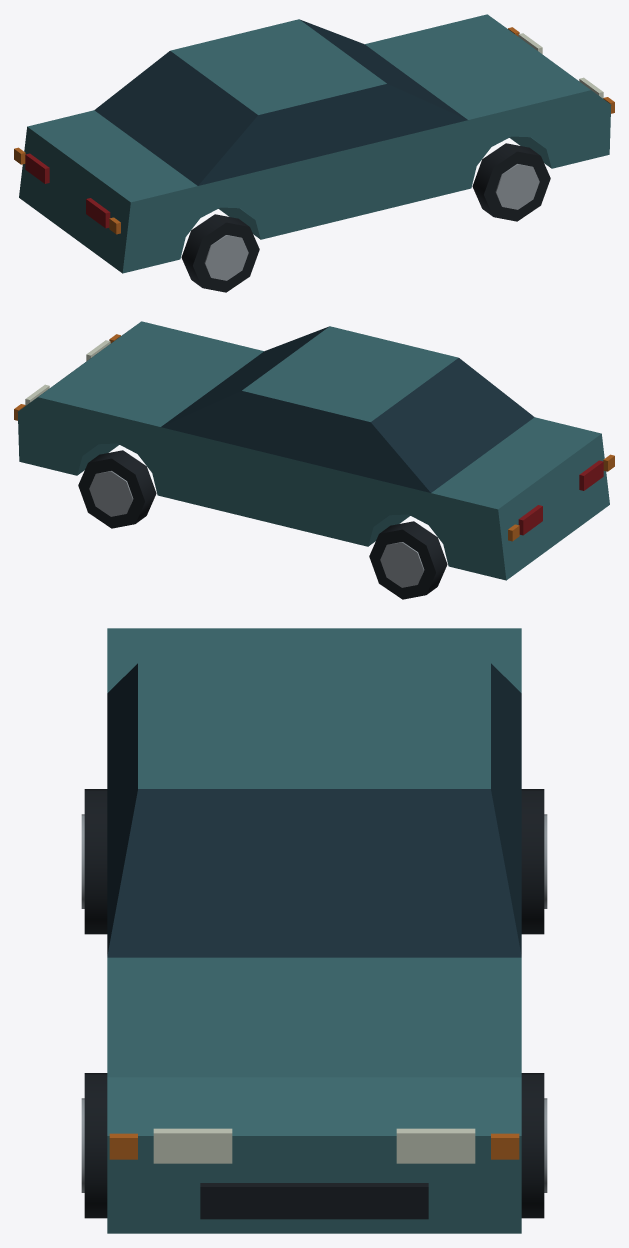
File: sedan-far.glb
3 renders of one model, top to bottom at view 1: azimuth 30°, elevation 25°; view 2: azimuth 150°, elevation 25°; view 3: azimuth 270°, elevation 25°, orthographic. The views are drawn at different scales.
Parts seen in each view (by area): view 1: distant_surface; view 2: distant_surface; view 3: distant_surface.
Boxes of the visible parts, x1,y1,x2,y2 form: distant_surface: [14, 14, 614, 292]; distant_surface: [14, 321, 614, 599]; distant_surface: [81, 628, 547, 1233].
Bounding box in the file's own units: 4.83 × 1.45 × 1.95.
